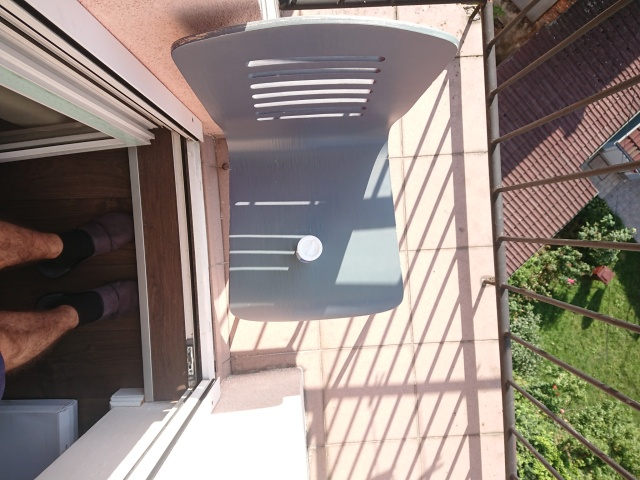Solana Pag Fine Sea Salt 250g: (294, 234, 325, 265)
